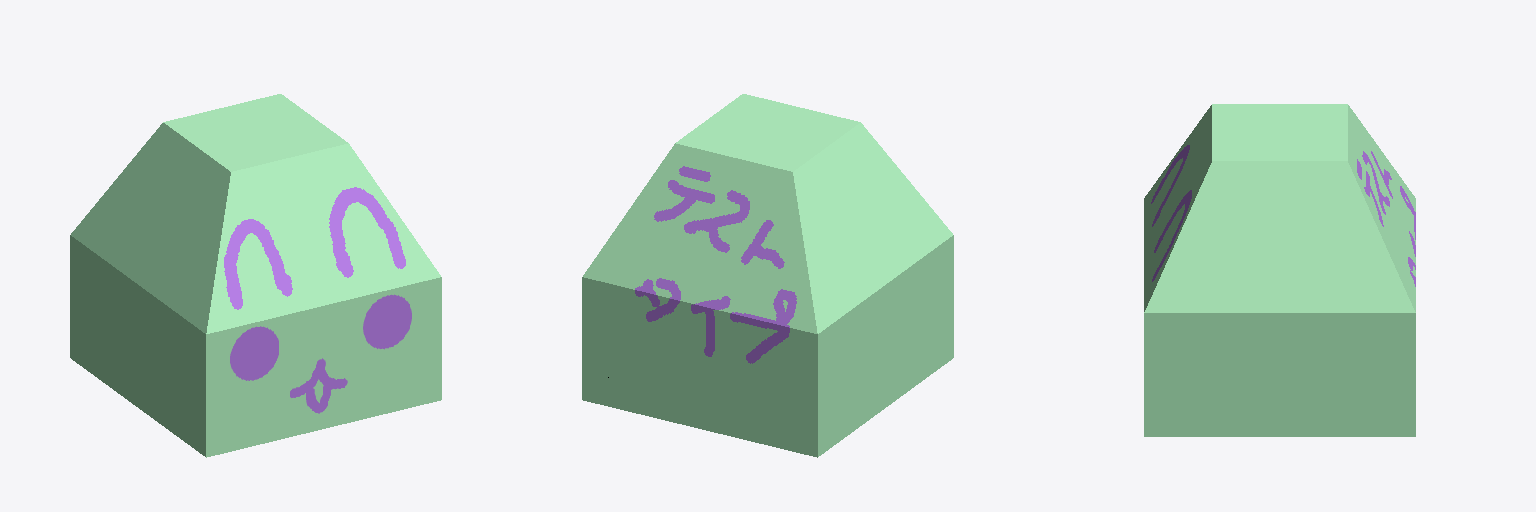
The picture shows the model from 3 angles: view 1: azimuth 30°, elevation 25°; view 2: azimuth 150°, elevation 25°; view 3: azimuth 270°, elevation 25°; orthographic projection.
Parts seen in each view (by area): view 1: 立方体; view 2: 立方体; view 3: 立方体.
Boxes of the visible parts, x1,y1,x2,y2 form: 立方体: [70, 94, 441, 457]; 立方体: [582, 94, 953, 457]; 立方体: [1144, 104, 1415, 436].
Bounding box in the file's own units: 2 × 2 × 2.
Materials: 1 (1 with a texture image).